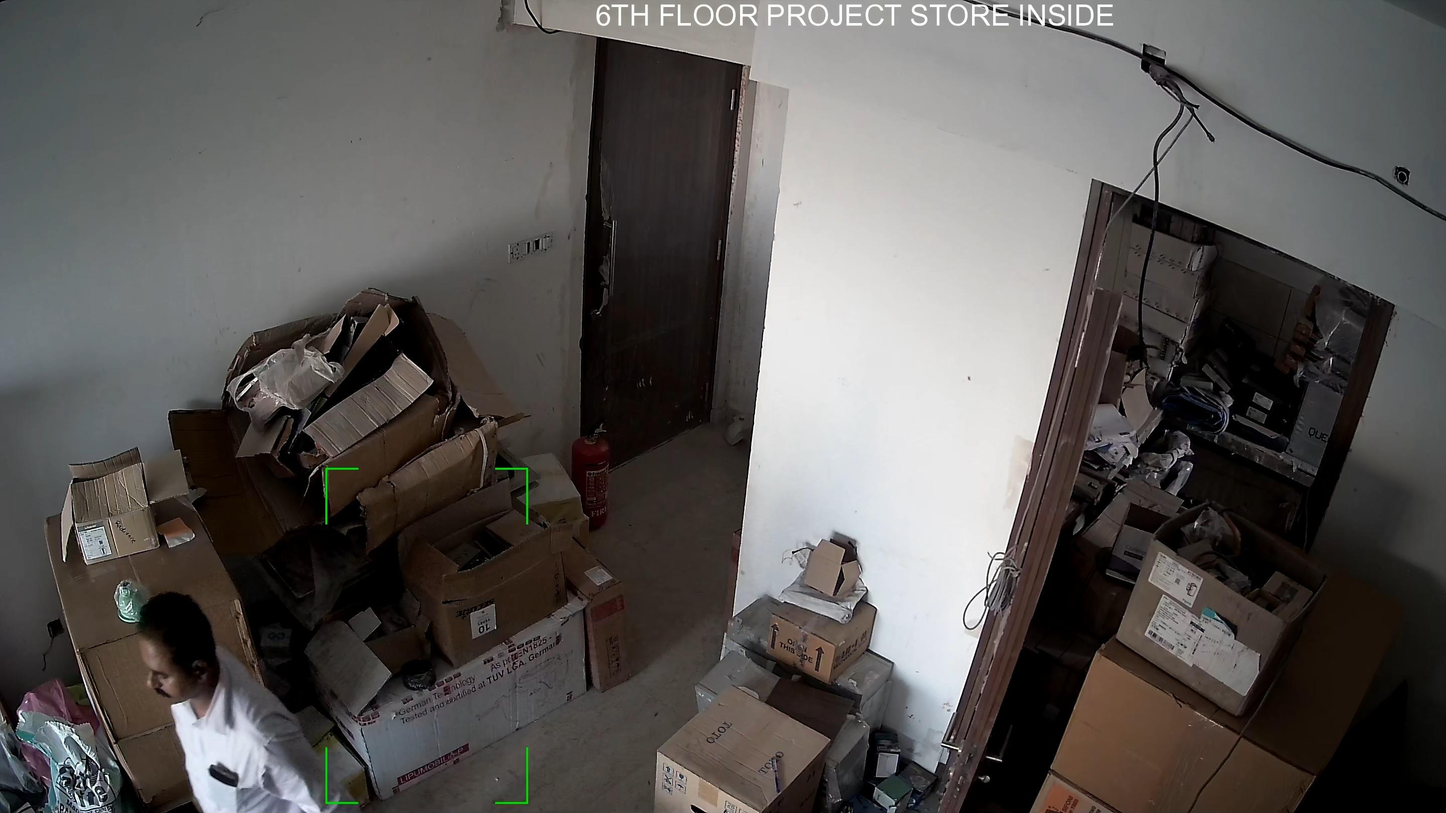Door-Close: (559, 26, 758, 484)
